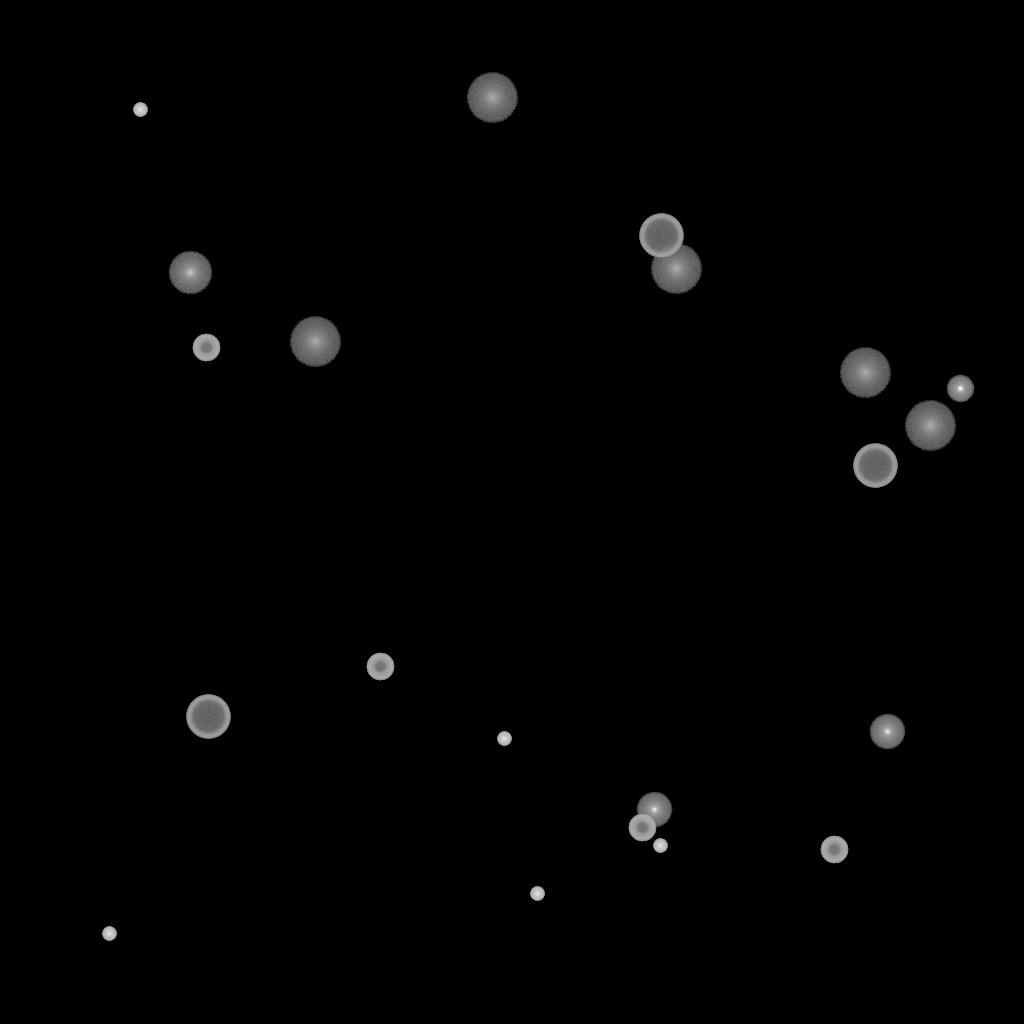depth:-10: (946, 375, 974, 403)
depth:-30: (530, 887, 544, 901), (653, 839, 667, 853), (102, 927, 116, 941), (133, 103, 147, 117), (497, 732, 511, 746)
depth:-50: (628, 814, 656, 842), (820, 836, 848, 864), (192, 334, 220, 362), (366, 653, 394, 681)
depth:-70: (853, 444, 897, 488), (186, 695, 230, 739), (639, 214, 683, 258)
depth:0: (636, 792, 672, 828), (869, 714, 905, 750)
depth:10: (168, 251, 212, 295)
depth:20: (650, 244, 702, 294), (839, 348, 891, 398), (289, 317, 341, 367), (466, 73, 518, 123), (904, 401, 956, 451)
